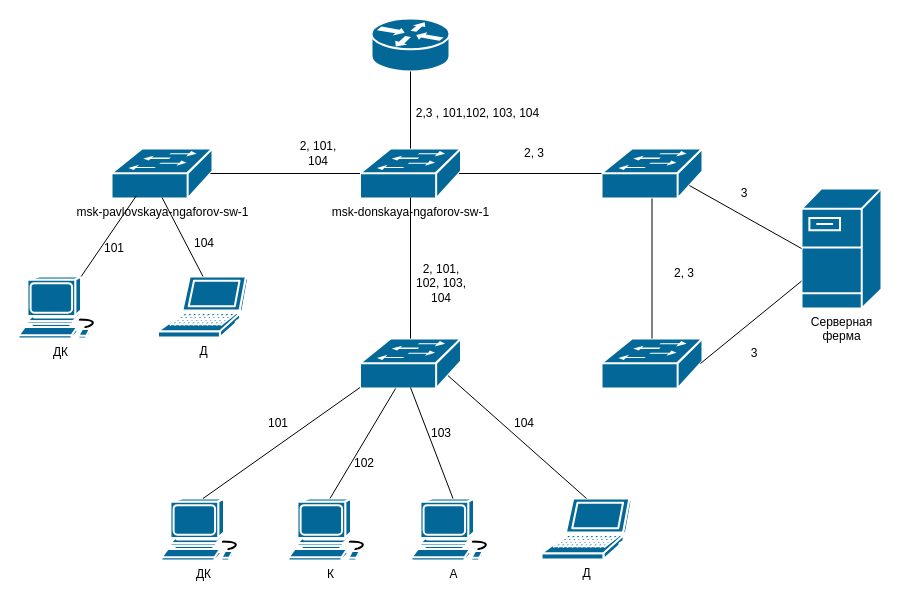
Some shapes in this 899 by 598 pixel diagram are drawn without their labels. The box of each missing label's shape, as (x1, y1, x2, y2) in pixels:
msk-donskaya-ngaforov-gw-1: (370, 17, 450, 72)
msk-donskaya-ngaforov-sw-2: (600, 147, 703, 199)
msk-donskaya-ngaforov-sw-3: (600, 337, 703, 389)
msk-donskaya-ngaforov-sw-4: (358, 337, 462, 389)
